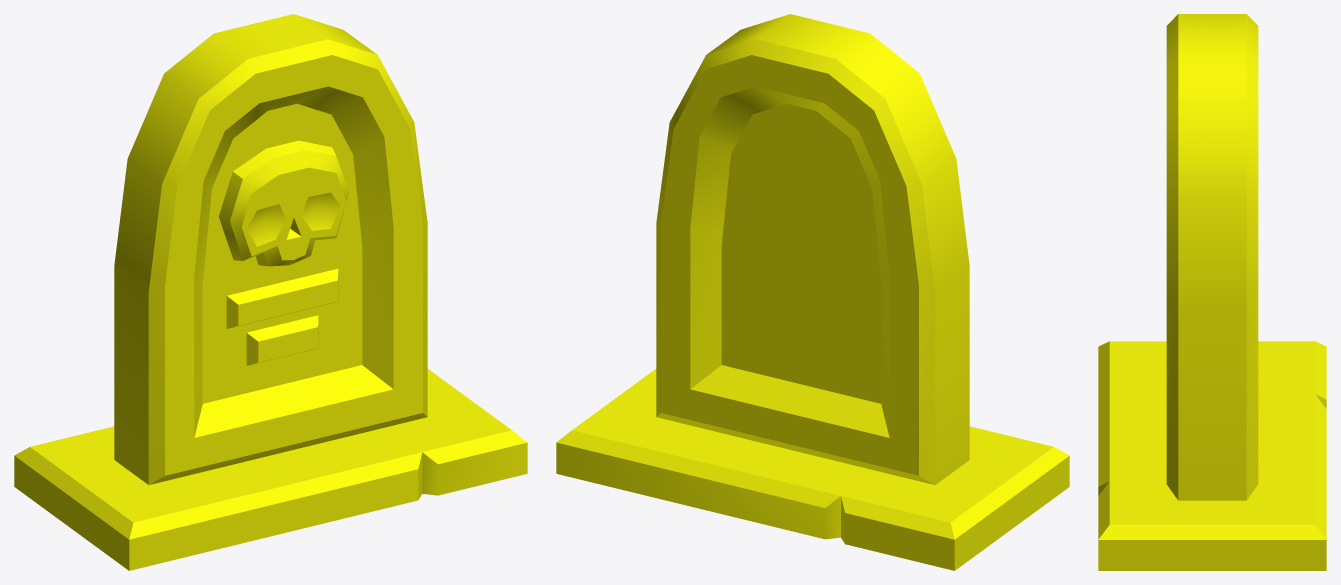
File: kaykit-grave-a.glb
3 views of the same model, side by side, from view 1: azimuth 30°, elevation 25°; view 2: azimuth 150°, elevation 25°; view 3: azimuth 270°, elevation 25° (orthographic).
Visible parts, largest first — view 1: grave_A; view 2: grave_A; view 3: grave_A.
Boxes of the visible parts, left/top/right/bottom form: grave_A: left=14, top=14, right=527, bottom=570; grave_A: left=556, top=14, right=1069, bottom=570; grave_A: left=1098, top=14, right=1326, bottom=570.
Size of the model in its own units: 2 by 2.13 by 0.9999.
